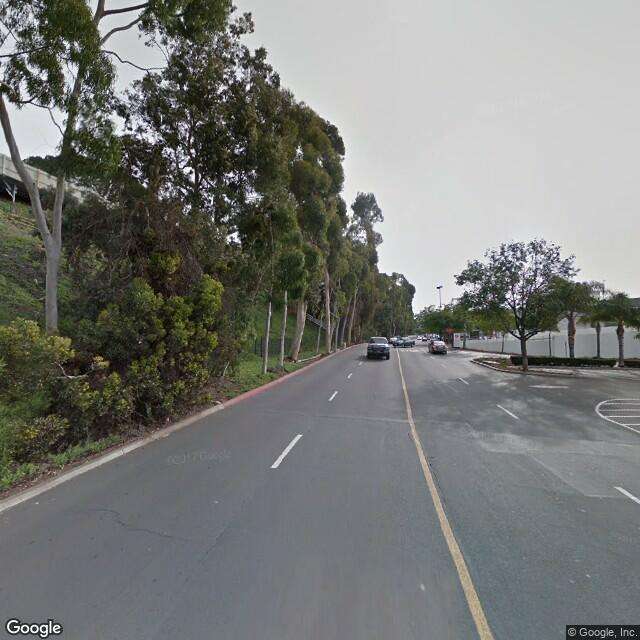litter: (164, 414, 171, 428), (48, 468, 58, 474), (34, 502, 40, 505)
